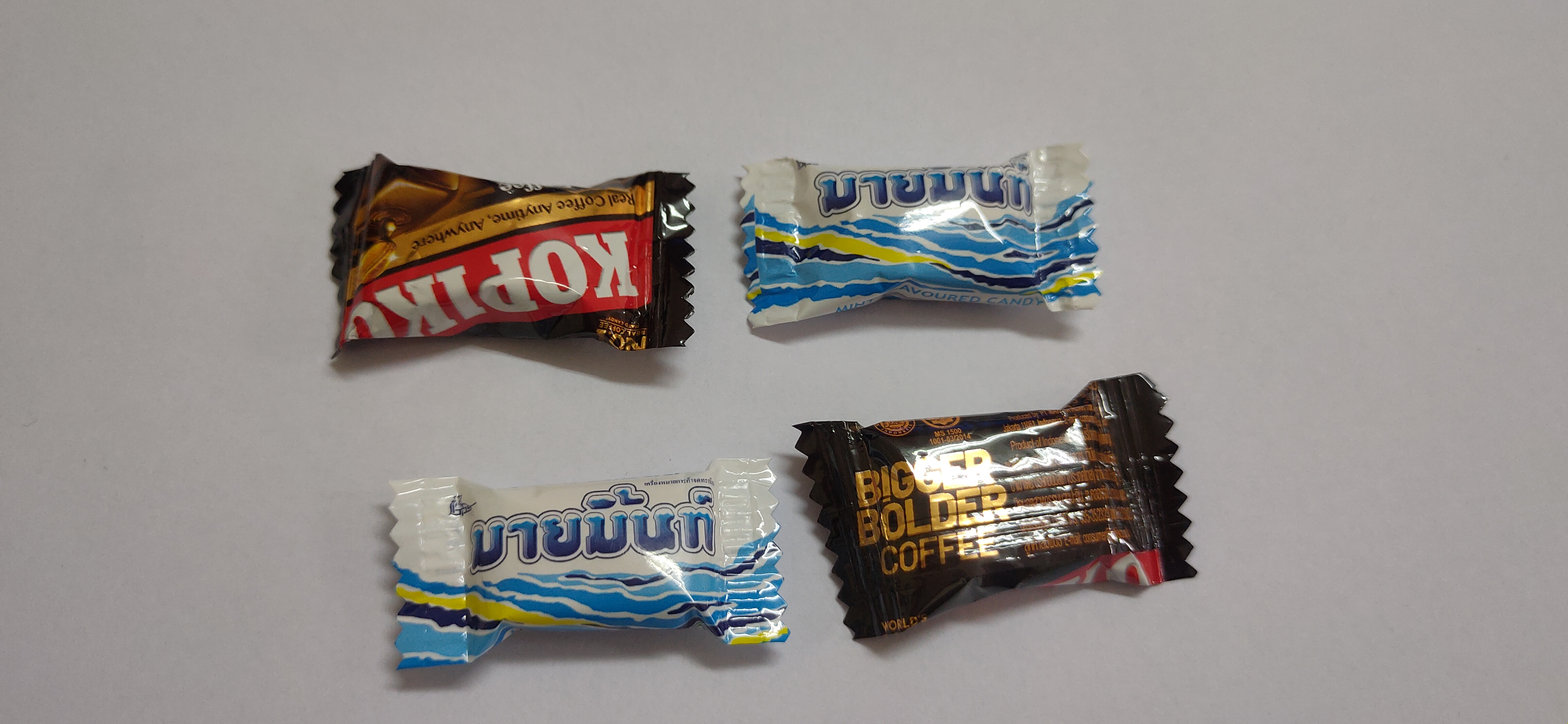plastic: (777, 323, 1261, 674), (344, 421, 831, 701), (730, 92, 1146, 383), (317, 127, 709, 383)
